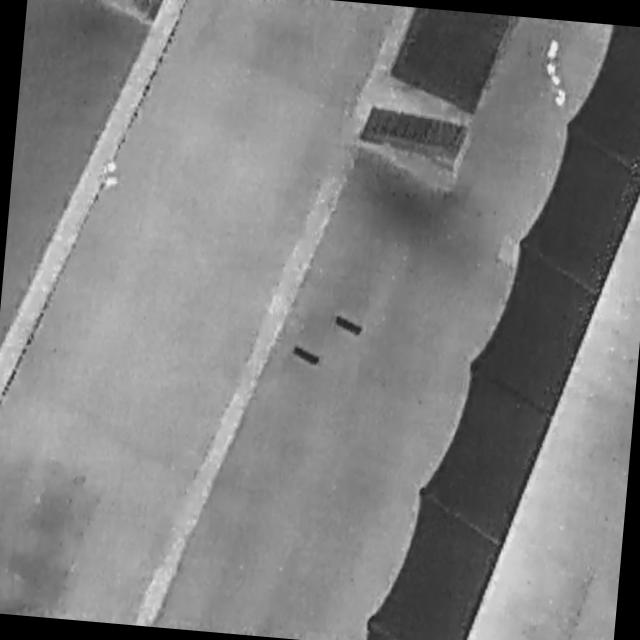person: (101, 157, 122, 192)
